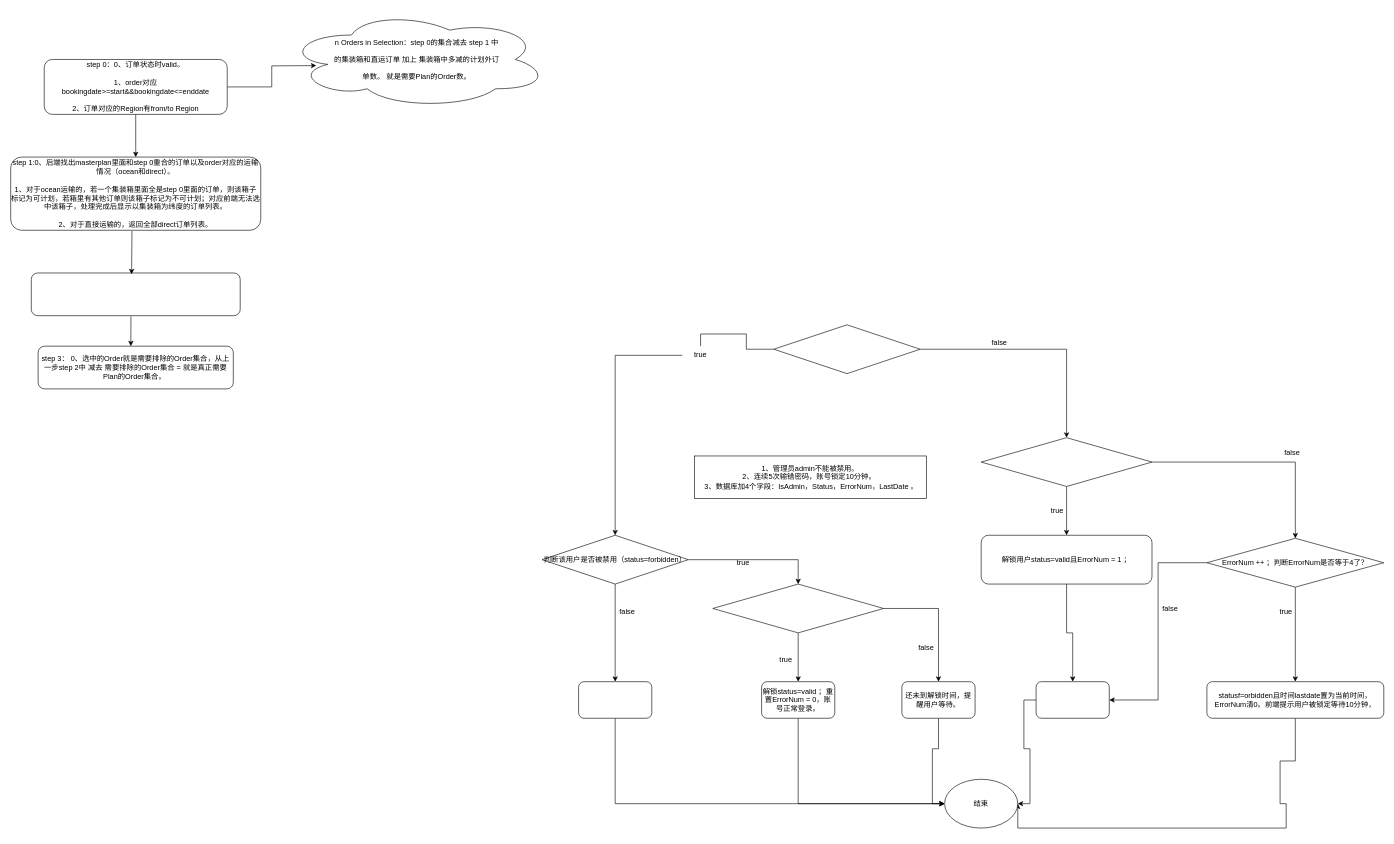
Some shapes in this 1394 by 844 pixel diagram are drawn without their labels. Here are the shapes that lost their labels. From the top down, the box of each, then its label:
(31, 272, 240, 316): step 2:0、将没有被Plan过的OrderSet + 在masterPlan里面需要Replan的Set = 总的需要Plan的Order集合。
(773, 324, 920, 374): 用户输入密码是否正确？
(981, 437, 1152, 486): 判断该用户是否在forbidden状态，且锁定状态超过十分钟了？
(712, 583, 884, 633): 用户禁用时间是否超过10分钟，距离当前时间
(578, 681, 652, 718): 重置用户的ErrorNum为0 。账号正常使用
(1035, 681, 1109, 718): 前端提示用户还有倒计几次的尝试次数？
